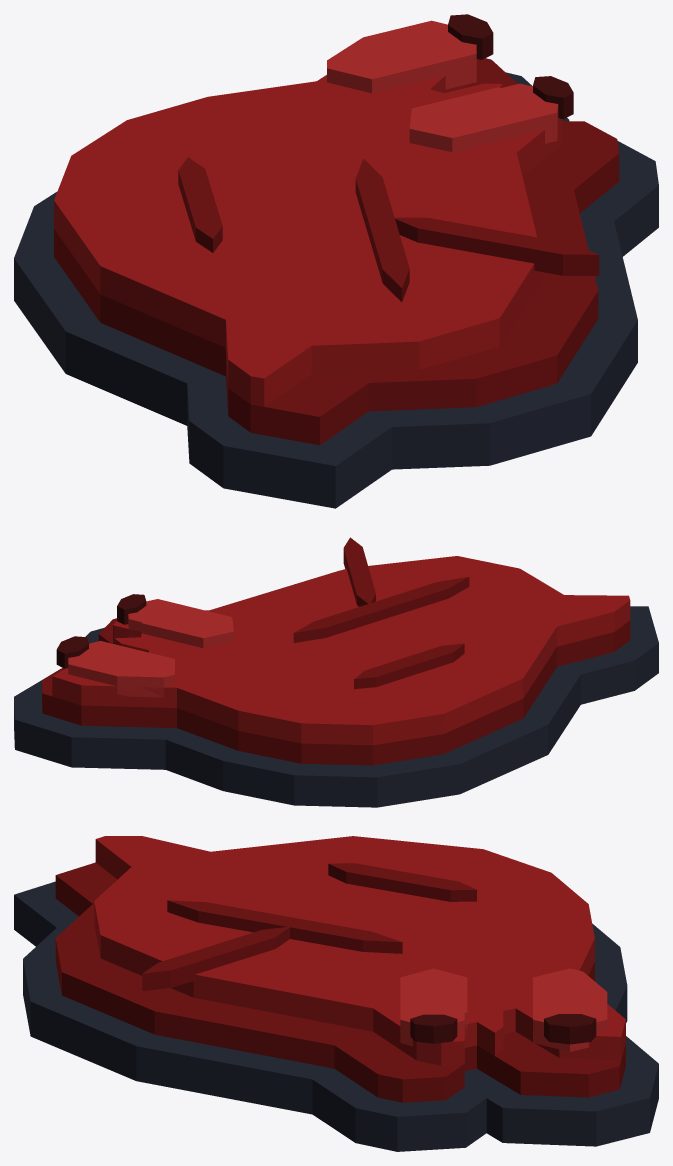
File: lava_heart.fbx
3 views of the same model, one above another, from view 1: azimuth 30°, elevation 25°; view 2: azimuth 150°, elevation 25°; view 3: azimuth 270°, elevation 25° (orthographic). The views are drawn at different scales.
Parts seen in each view (by area): view 1: lava_heart; view 2: lava_heart; view 3: lava_heart.
Part boxes in pixels (x1,y1,x2,y2): lava_heart: [14, 14, 658, 508]; lava_heart: [14, 537, 658, 807]; lava_heart: [14, 836, 658, 1151].
Bounding box in the file's own units: 0.9109 × 0.17 × 1.
Materials: 1 (1 with a texture image).
